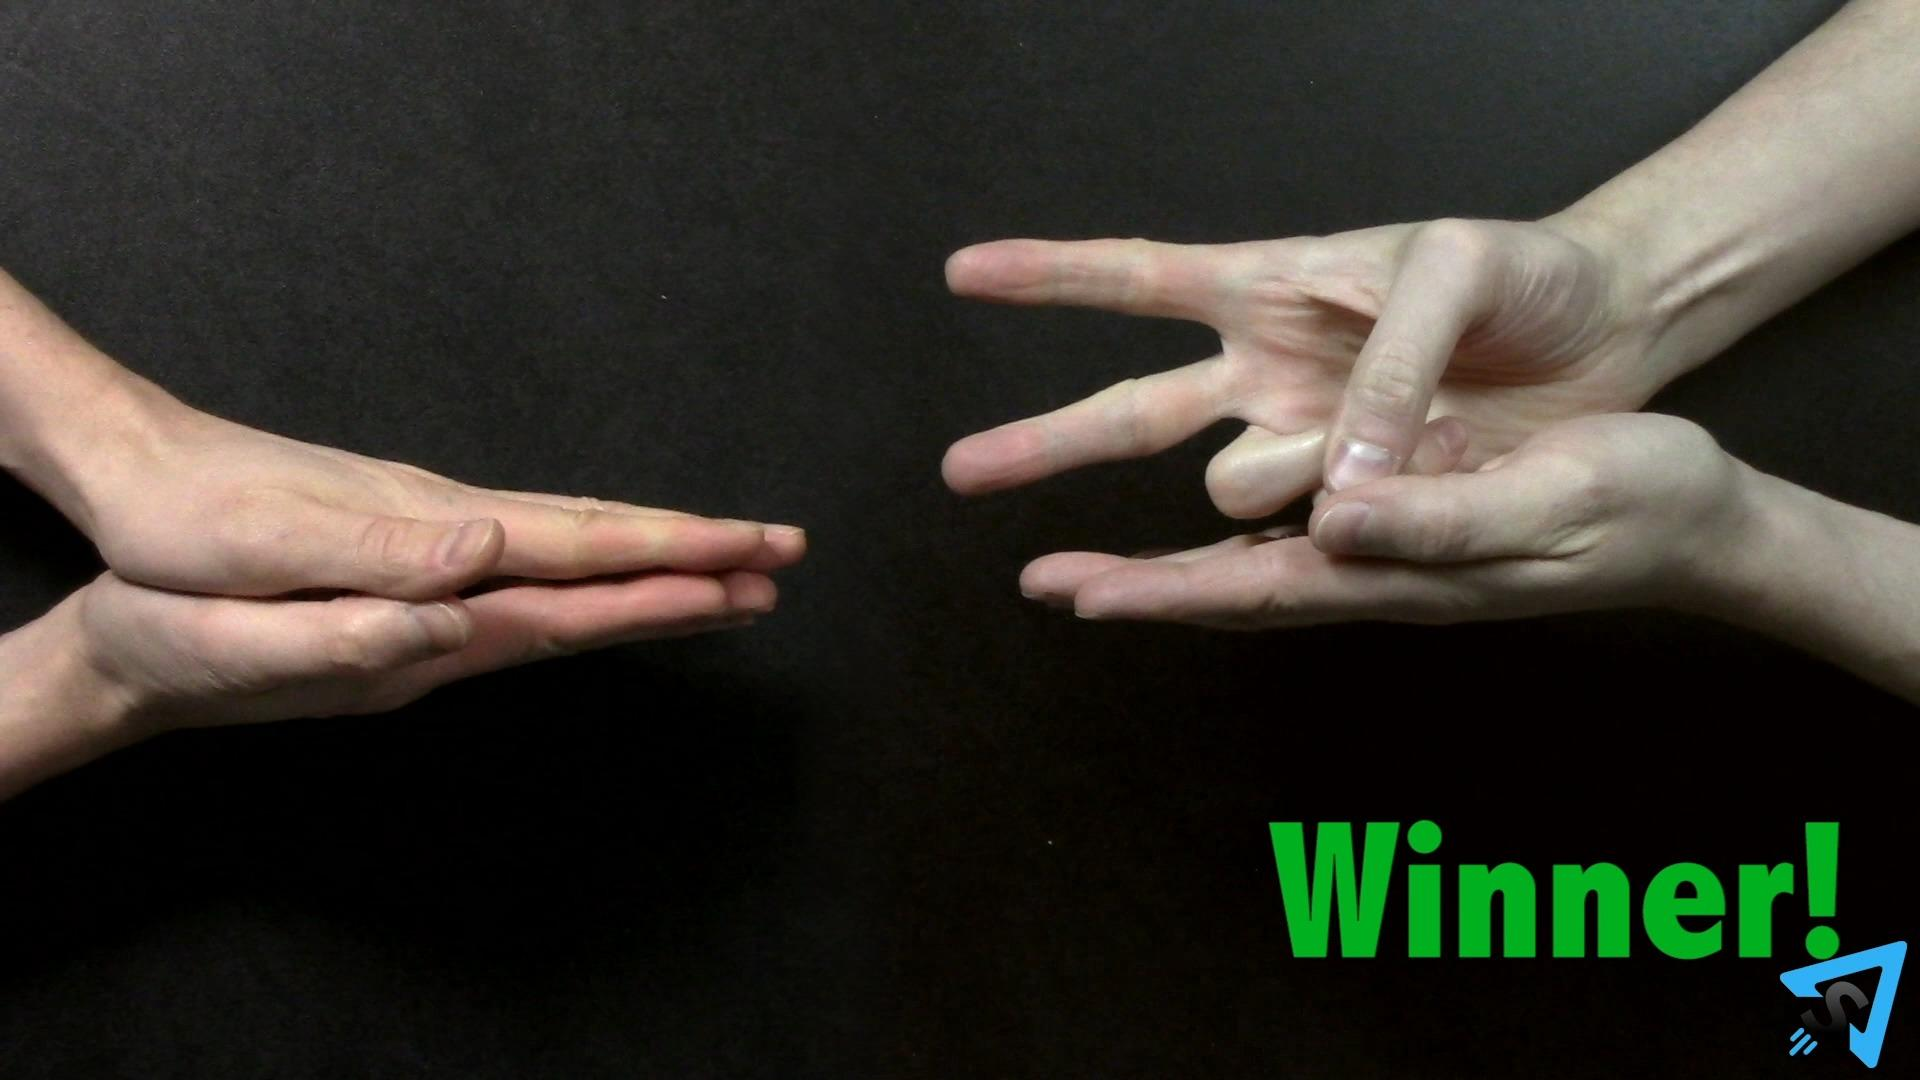Paper: (98, 402, 811, 580)
Scissors: (940, 211, 1679, 531)
